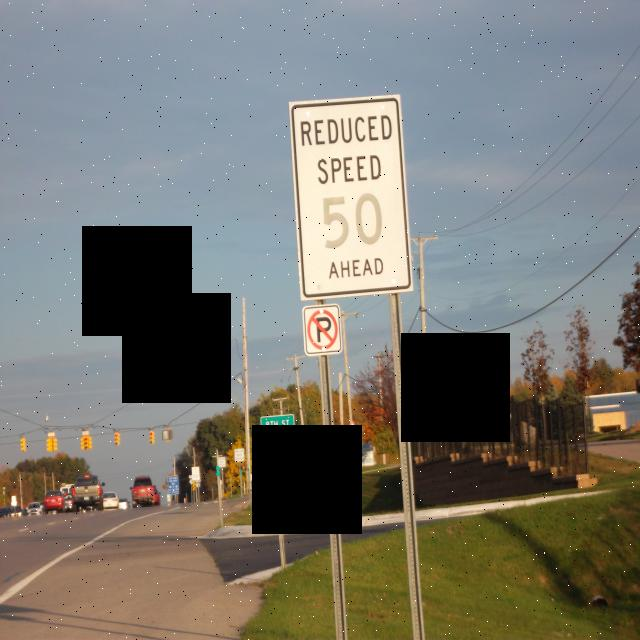regulatory: (289, 98, 414, 295), (298, 296, 352, 368), (232, 448, 245, 463), (262, 431, 273, 446), (216, 457, 227, 469), (192, 466, 200, 482)
